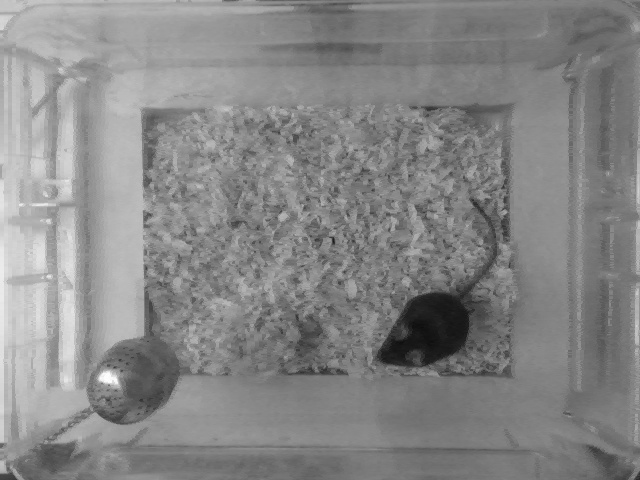mice: (372, 198, 501, 367)
